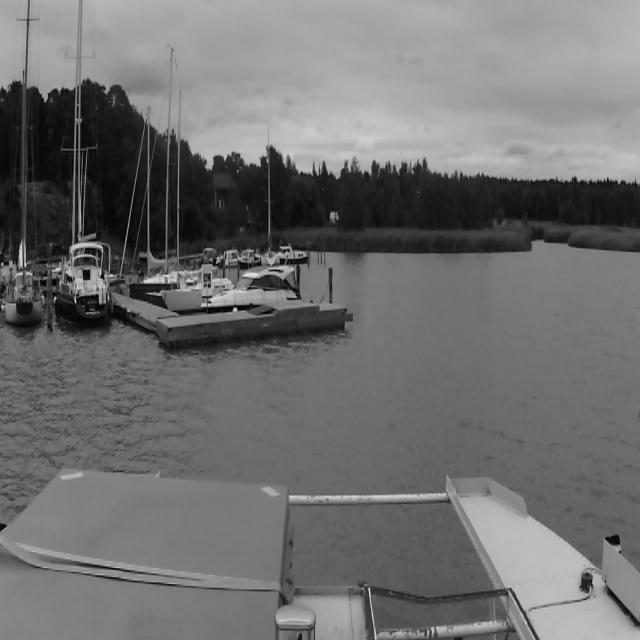ship: (56, 0, 118, 330), (0, 0, 44, 331), (130, 48, 176, 292), (198, 258, 308, 320), (260, 113, 278, 268), (278, 242, 312, 266), (237, 244, 261, 272), (216, 246, 240, 271), (198, 246, 216, 268)
